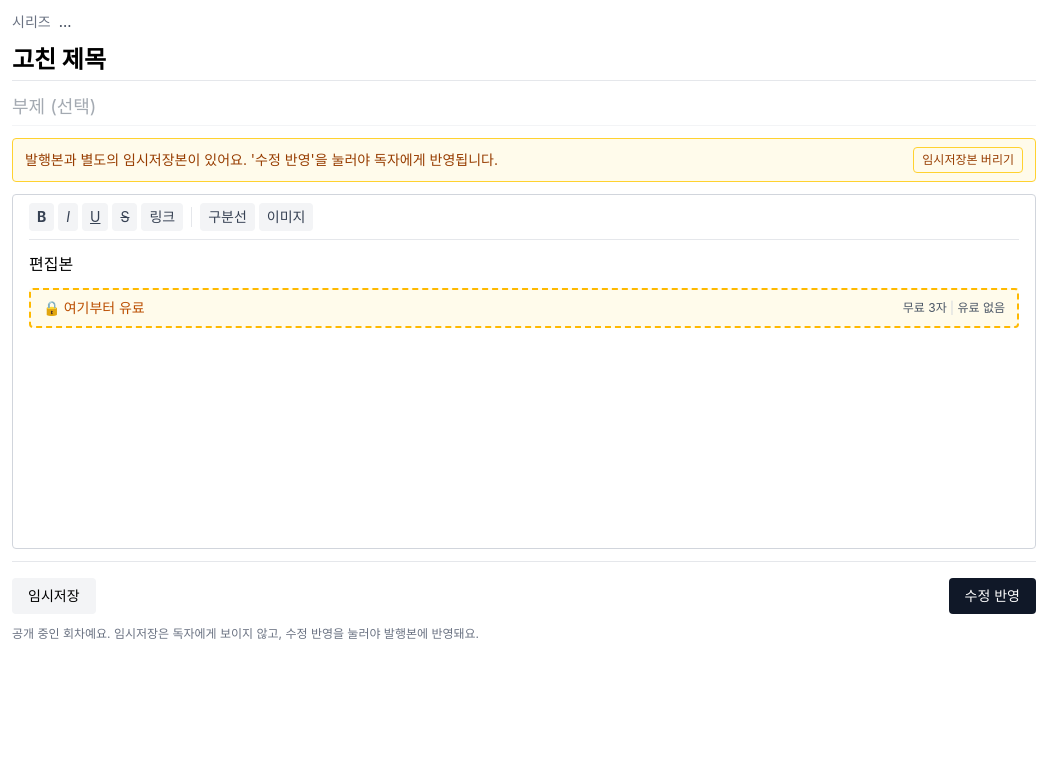
Test: EpisodeEditor › 편집본이 있으면 draft를 열고 배너를 보여주며, 버리기는 draft:null만 PUT한다
Expected: the text "발행본과 별도의 임시저장본이 있어요. '수정 반영'을 눌러야 독자에게 반영됩니다." is shown, [25,150,498,170]
Expected: the field showing "고친 제목" is shown, [12,44,1036,81]
Click the button "임시저장본 버리기" at (968, 160), box [913,147,1023,173]
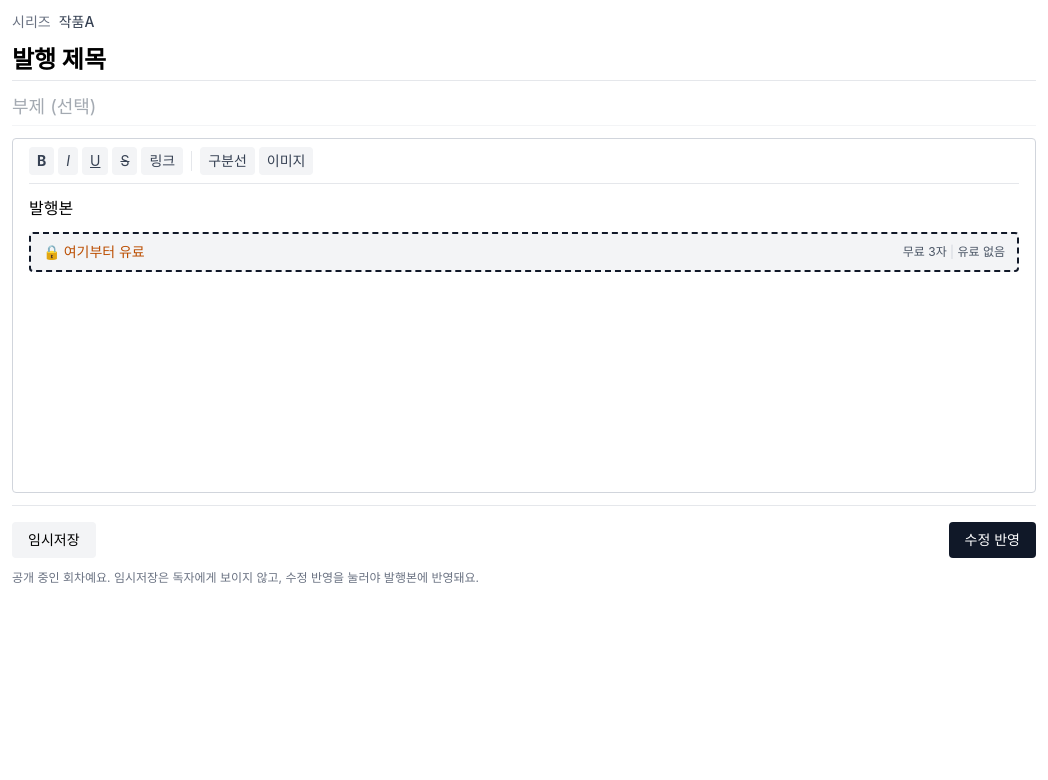
Now the field showing "발행 제목" is shown, box [12,44,1036,81]
Now the text "별도의 임시저장본이 있어요" is gone
